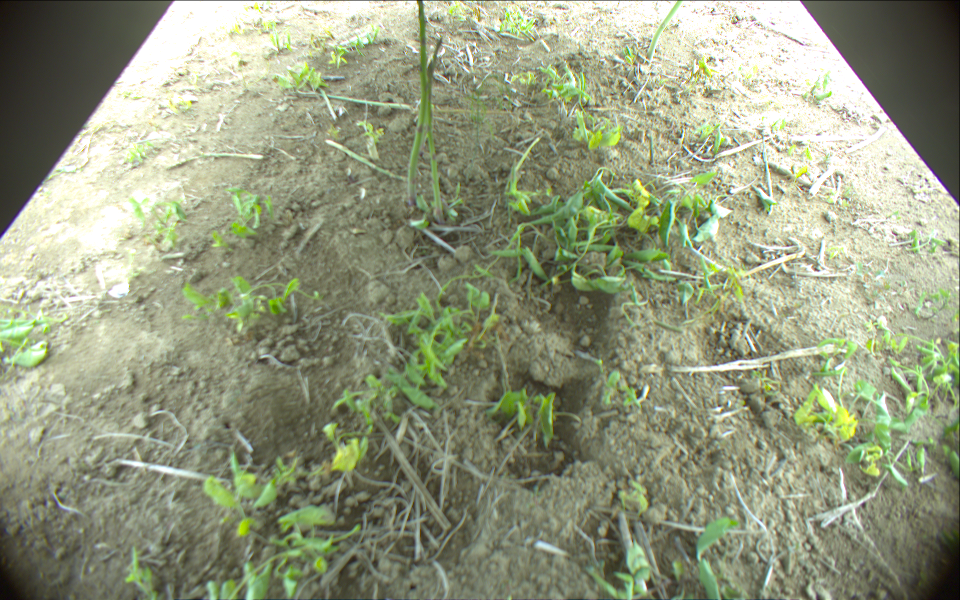aspa: (406, 36, 444, 211), (414, 1, 444, 219), (327, 140, 403, 181), (647, 1, 682, 59), (319, 90, 412, 110), (199, 150, 262, 159), (320, 87, 336, 121)
